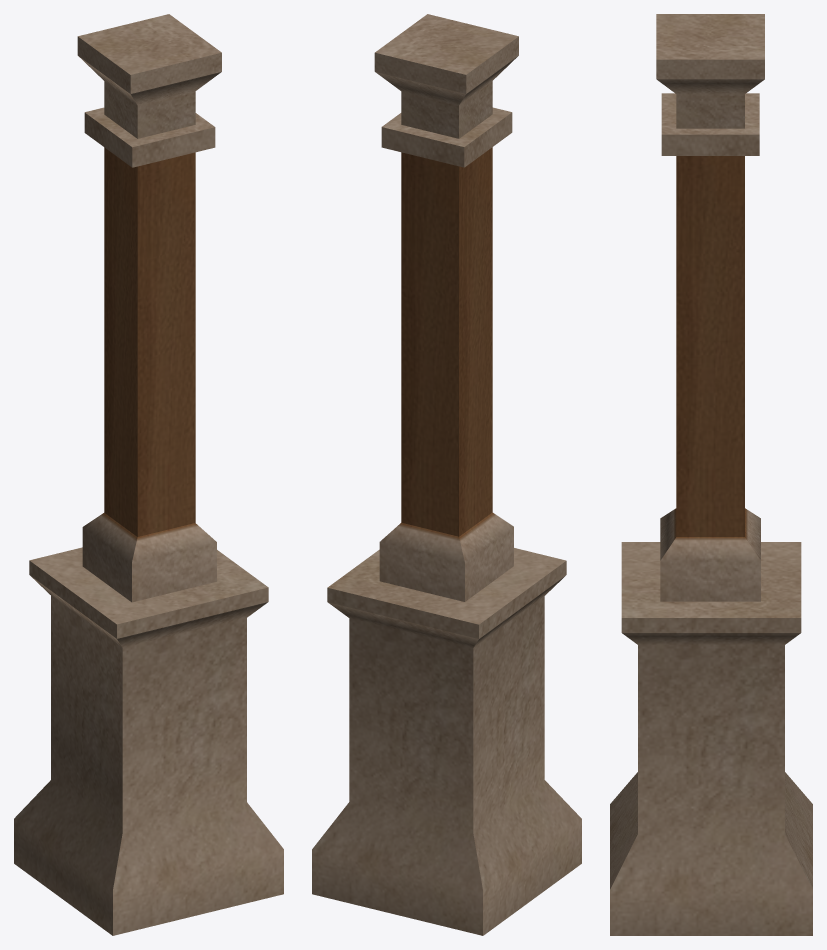
Rendered from Poles.fbx.
The picture shows the model from 3 angles, left to right: view 1: azimuth 30°, elevation 25°; view 2: azimuth 150°, elevation 25°; view 3: azimuth 270°, elevation 25°; orthographic projection. The views are drawn at different scales.
Visible parts, largest first — view 1: M_Pillar2_MedievalDiningRoom_FinalScene2:blinn3_0; view 2: M_Pillar2_MedievalDiningRoom_FinalScene2:blinn3_0; view 3: M_Pillar2_MedievalDiningRoom_FinalScene2:blinn3_0.
Boxes of the visible parts, <box> form: M_Pillar2_MedievalDiningRoom_FinalScene2:blinn3_0: <box>14,14,283,935</box>; M_Pillar2_MedievalDiningRoom_FinalScene2:blinn3_0: <box>312,14,581,935</box>; M_Pillar2_MedievalDiningRoom_FinalScene2:blinn3_0: <box>610,14,812,935</box>.
Bounding box in the file's own units: 17.91 × 83.46 × 17.91.
Materials: 1 (1 with a texture image).
